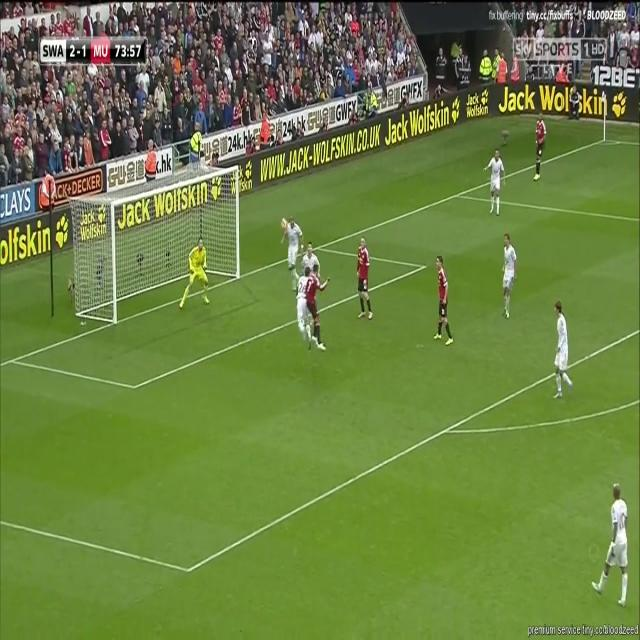Ball: (280, 216, 287, 232)
Goalkeeper: (178, 238, 210, 312)
Player: (589, 479, 631, 610), (552, 299, 574, 400), (306, 262, 330, 354), (432, 253, 455, 347), (280, 214, 304, 292), (482, 144, 508, 216), (354, 234, 374, 322), (500, 234, 520, 322), (530, 111, 548, 185), (294, 265, 311, 343), (300, 238, 322, 275)
